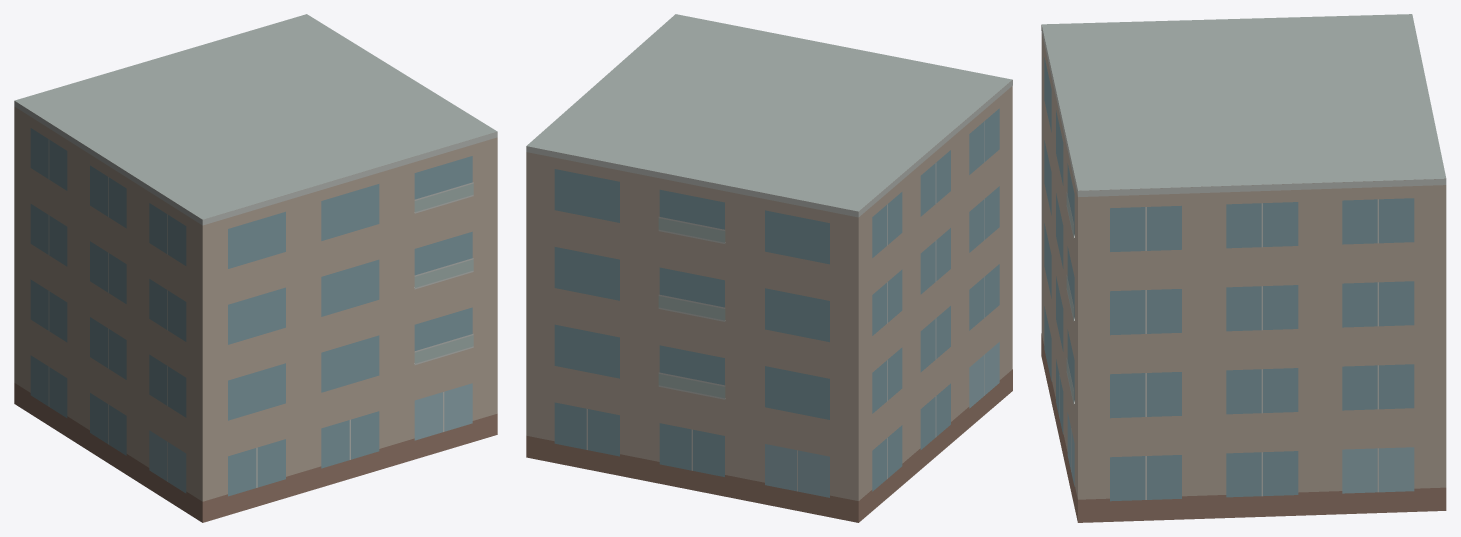
Rendered from survey-upis-32728404.glb.
3 renders of one model, left to right at view 1: azimuth 30°, elevation 25°; view 2: azimuth 150°, elevation 25°; view 3: azimuth 270°, elevation 25°, orthographic. The views are drawn at different scales.
Parts seen in each view (by area): view 1: survey-upis-32728404.tmp; view 2: survey-upis-32728404.tmp; view 3: survey-upis-32728404.tmp.
Boxes of the visible parts, box(x1,y1,x2,y2) form: survey-upis-32728404.tmp: box(14, 14, 497, 522); survey-upis-32728404.tmp: box(526, 14, 1012, 522); survey-upis-32728404.tmp: box(1041, 14, 1446, 522).
Bounding box in the file's own units: 14.63 × 12.8 × 14.15.
